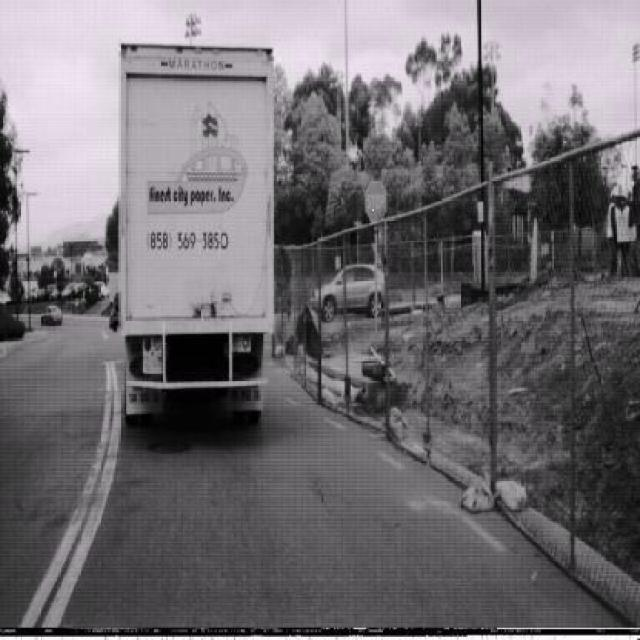stop: (364, 178, 386, 224)
